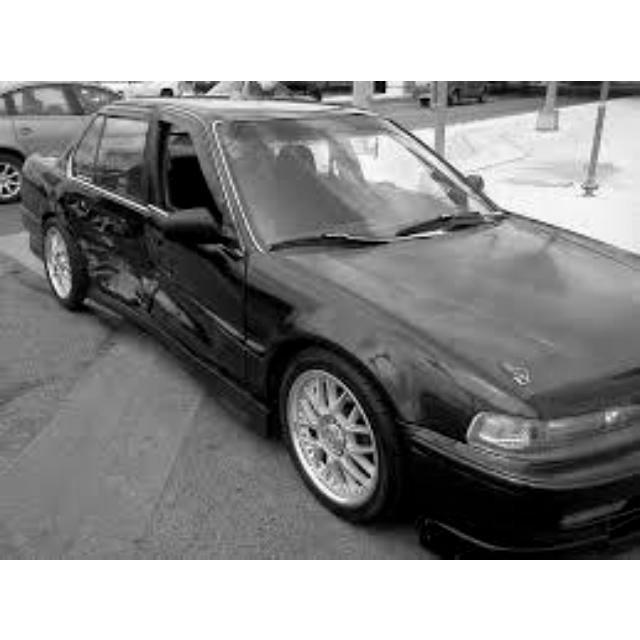doorouter-dent: (168, 113, 244, 308), (62, 165, 150, 288)
